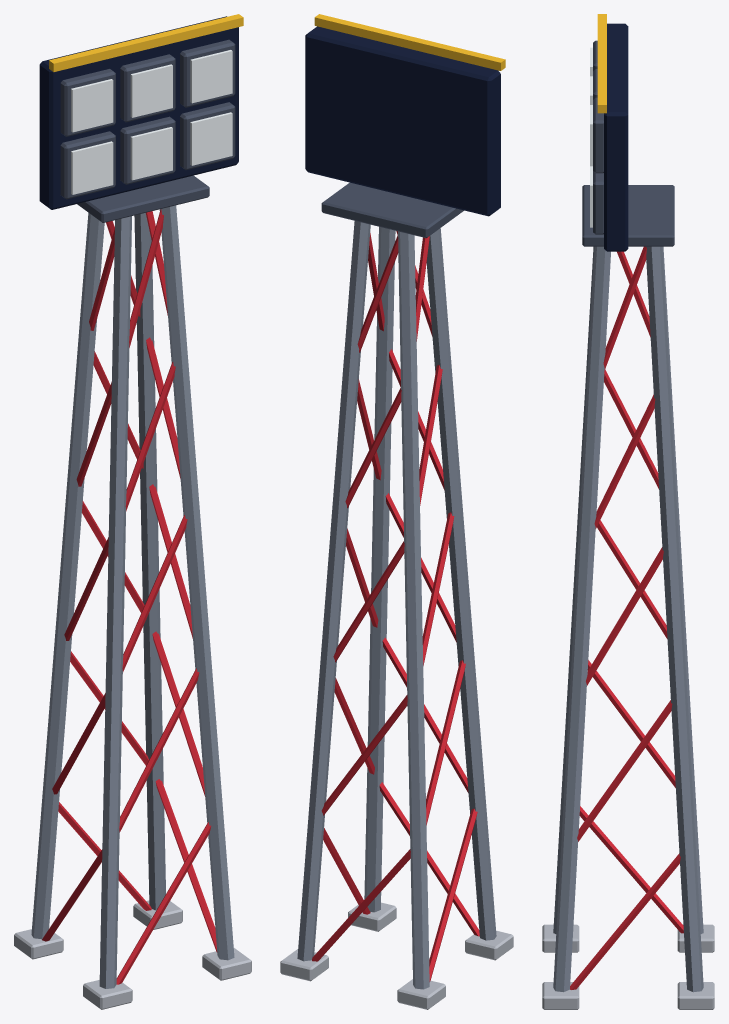
The model's file is LightTower.fbx.
3 views of the same model, side by side, from view 1: azimuth 30°, elevation 25°; view 2: azimuth 150°, elevation 25°; view 3: azimuth 270°, elevation 25° (orthographic).
Visible parts, largest first — view 1: LightTower, Neon_White; view 2: LightTower; view 3: LightTower, Neon_White.
Part boxes in pixels (x1=…): LightTower: x1=14, y1=14, x2=251, y2=1009; Neon_White: x1=71, y1=50, x2=232, y2=194; LightTower: x1=280, y1=14, x2=513, y2=1009; LightTower: x1=542, y1=14, x2=714, y2=1009; Neon_White: x1=590, y1=47, x2=592, y2=227.
Bounding box in the file's own units: 7 × 32.86 × 5.6.
Materials: 2 (1 with a texture image).
